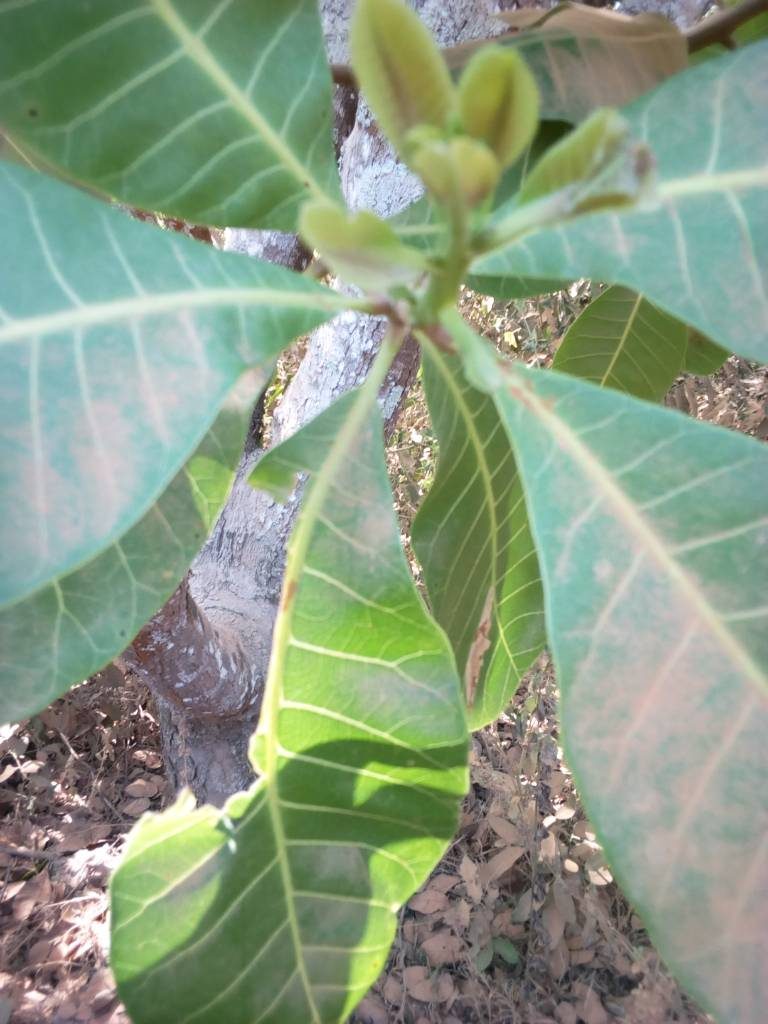Anoplocnemis curvipes: (138, 478, 391, 1024)
